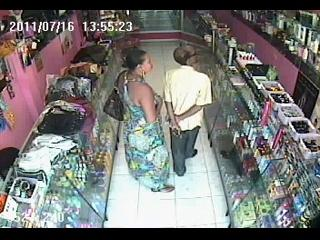Normal: (116, 48, 174, 192), (162, 45, 212, 176)
